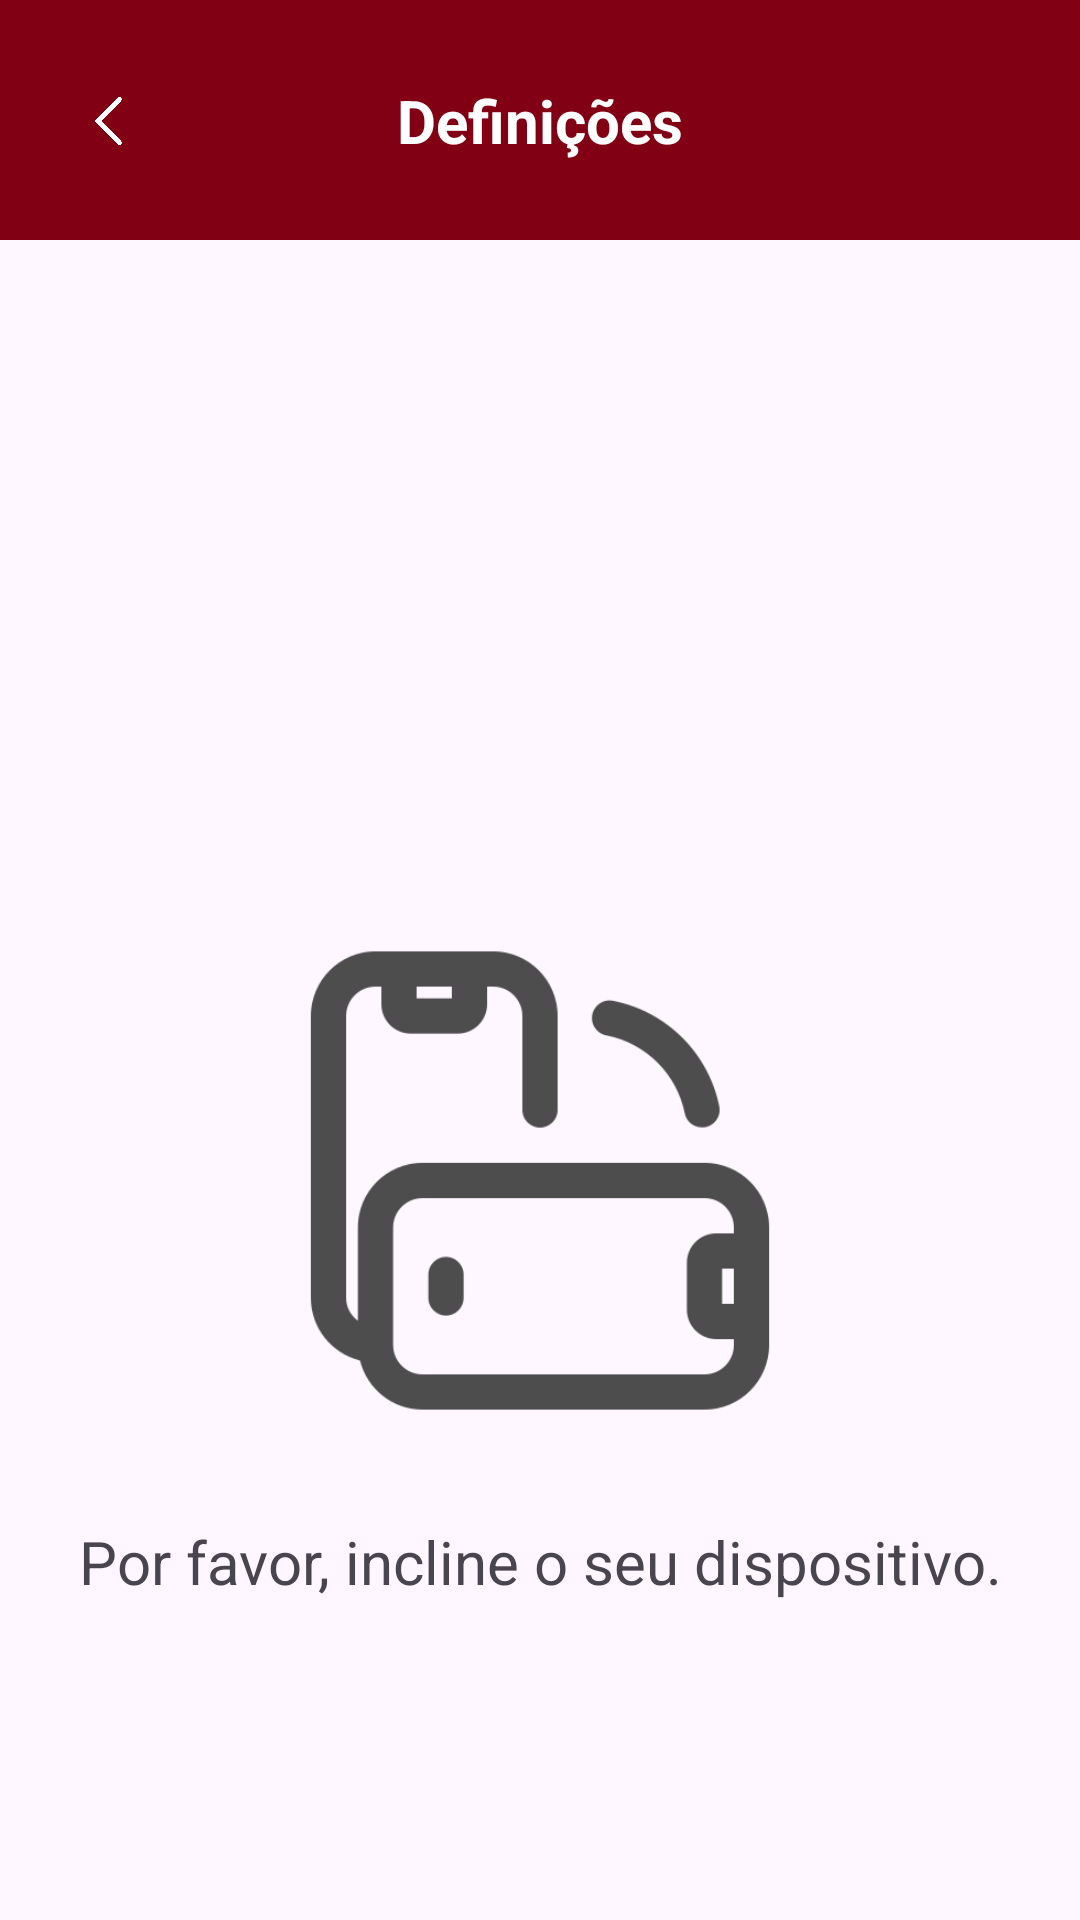

Icons on this 1080 × 1920 Android screen, each with the point to tap as (x,y):
back: (108,121)
